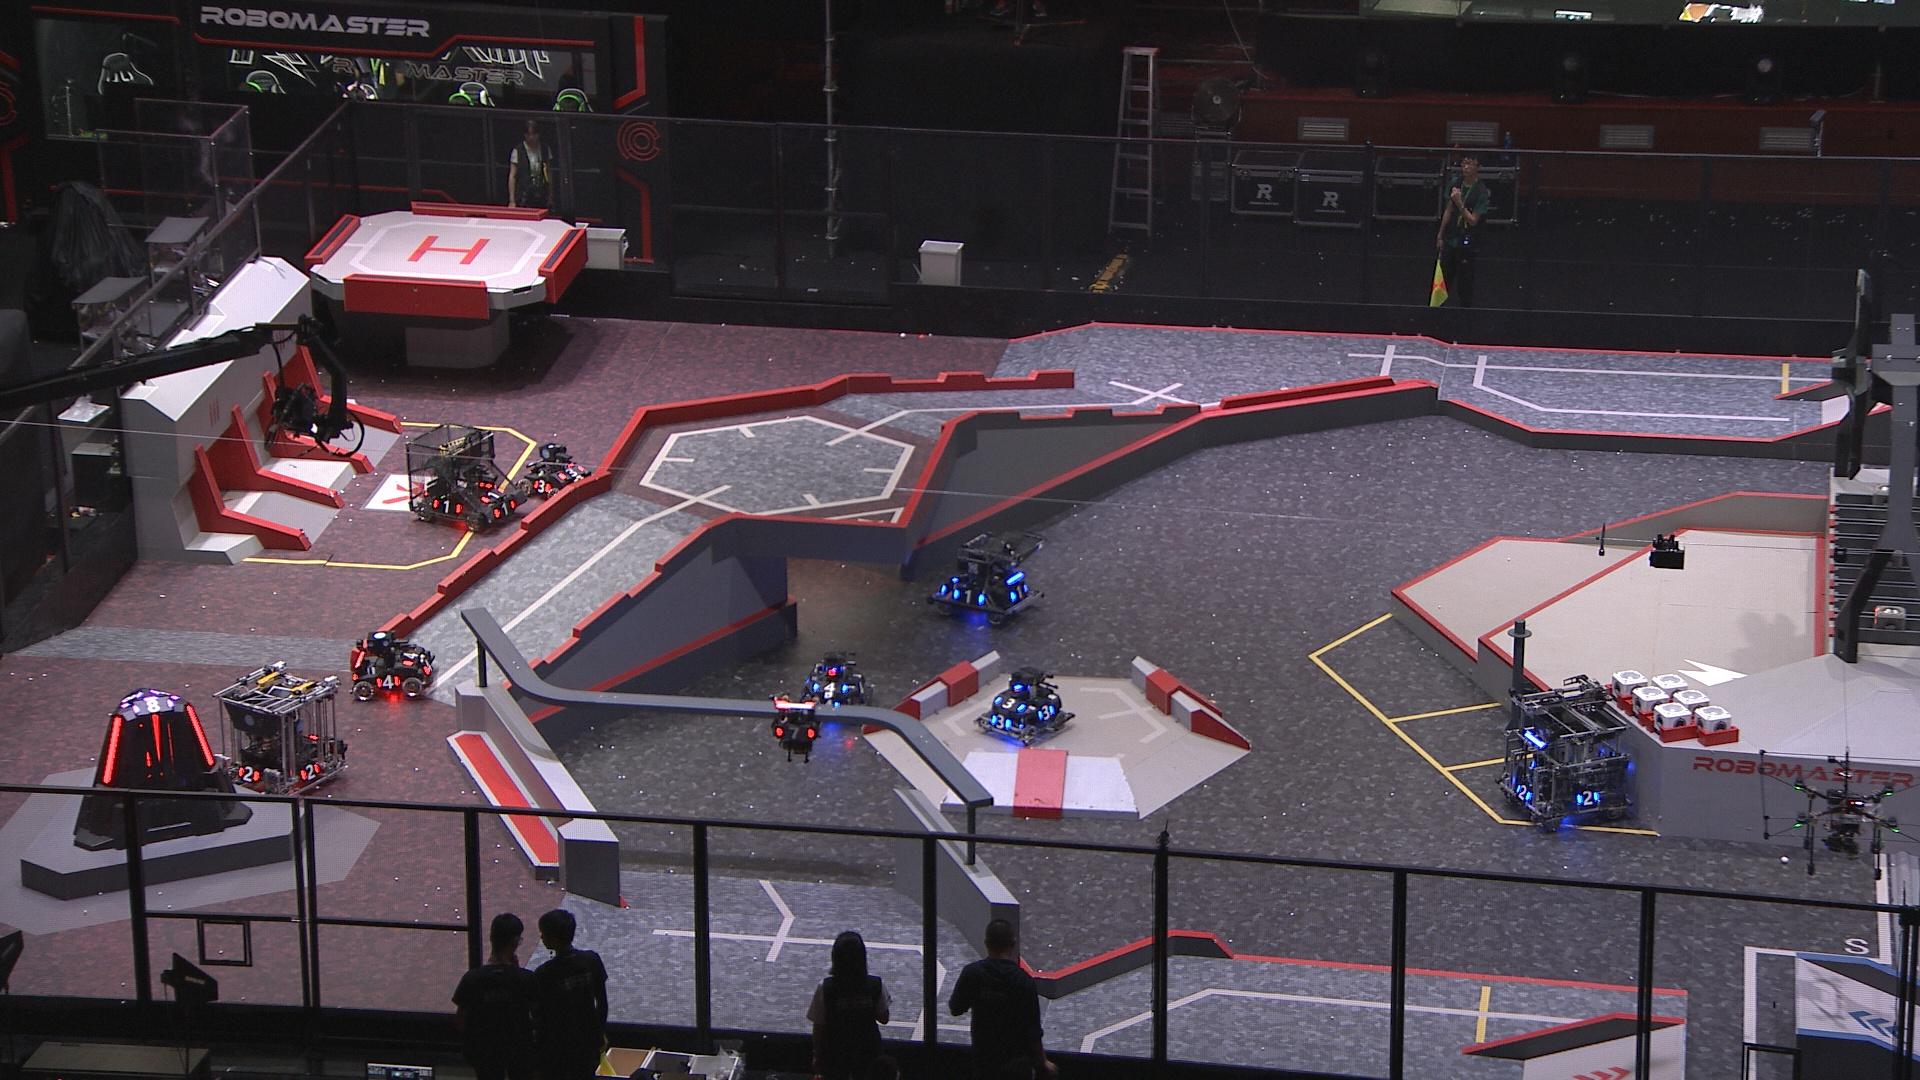armor: (98, 713, 123, 785), (186, 704, 214, 767), (775, 725, 814, 744), (229, 764, 261, 783), (812, 679, 849, 695), (150, 713, 162, 760), (430, 498, 462, 516), (493, 498, 520, 518), (994, 694, 1025, 711), (953, 588, 984, 605), (295, 764, 319, 785), (1575, 789, 1600, 808), (556, 463, 583, 481), (988, 712, 1010, 732), (1007, 582, 1031, 600), (814, 698, 844, 711), (1514, 782, 1532, 803), (1038, 703, 1058, 721), (375, 674, 400, 688), (855, 676, 869, 700), (533, 480, 553, 496), (404, 646, 419, 666), (480, 489, 505, 501), (422, 659, 434, 676)
base: (71, 684, 251, 851)
car: (1498, 679, 1636, 828), (215, 665, 347, 798), (404, 422, 527, 542), (926, 527, 1044, 632), (975, 665, 1076, 752), (348, 629, 442, 702), (800, 647, 873, 713), (524, 439, 593, 493)
ignore: (128, 695, 174, 716)
watcher: (769, 694, 823, 765)
